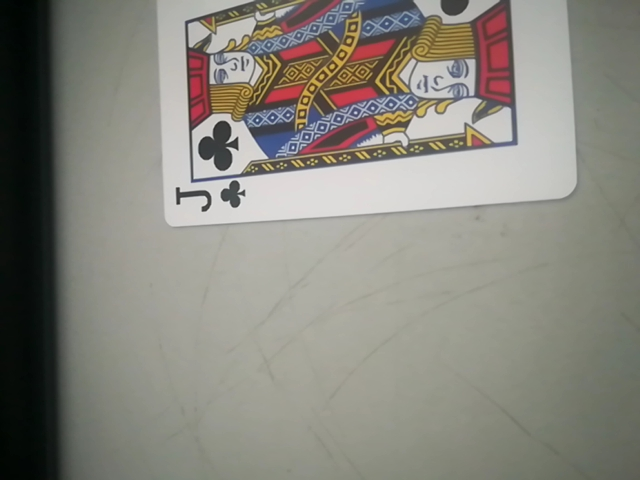mh j: (151, 0, 575, 232)
